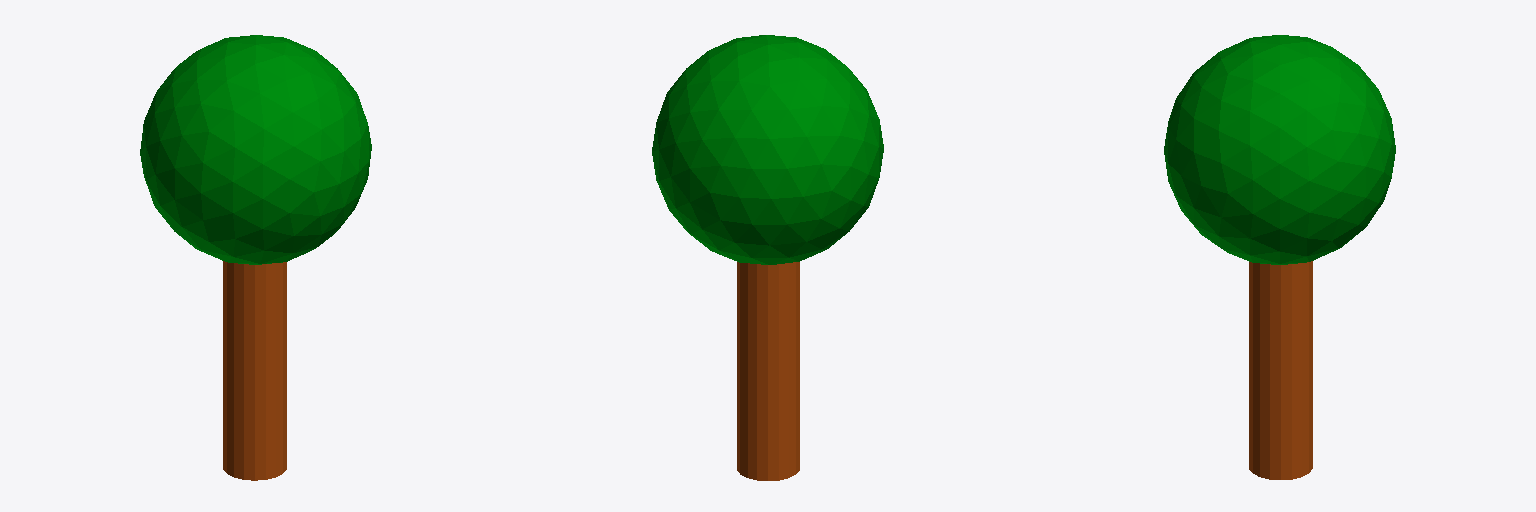
File: tree_01.obj
3 views of the same model, side by side, from view 1: azimuth 30°, elevation 25°; view 2: azimuth 150°, elevation 25°; view 3: azimuth 270°, elevation 25° (orthographic).
Parts seen in each view (by area): view 1: GeoSphere01; view 2: GeoSphere01; view 3: GeoSphere01.
Part boxes in pixels (left/top/right/bottom): GeoSphere01: left=140, top=35, right=371, bottom=480; GeoSphere01: left=652, top=35, right=883, bottom=480; GeoSphere01: left=1164, top=35, right=1395, bottom=479.
Bounding box in the file's own units: 4.91 × 9.86 × 4.91.